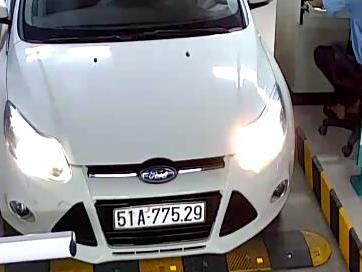car: (114, 203, 205, 231)
